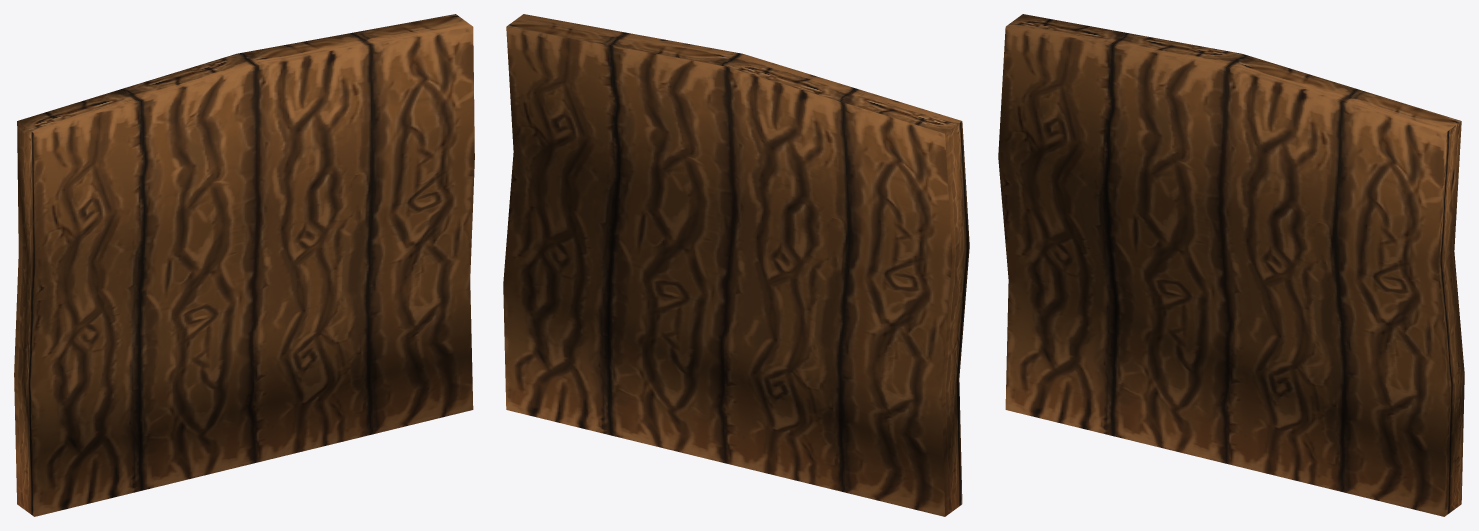
Rendered from partition_barn.fbx.
The picture shows the model from 3 angles, left to right: view 1: azimuth 30°, elevation 25°; view 2: azimuth 150°, elevation 25°; view 3: azimuth 330°, elevation 25°; orthographic projection.
Parts seen in each view (by area): view 1: partition_barn; view 2: partition_barn; view 3: partition_barn.
Boxes of the visible parts, x1,y1,x2,y2 form: partition_barn: (14, 14, 474, 516); partition_barn: (503, 14, 969, 516); partition_barn: (998, 14, 1464, 516).
Bounding box in the file's own units: 103 × 88.26 × 10.
